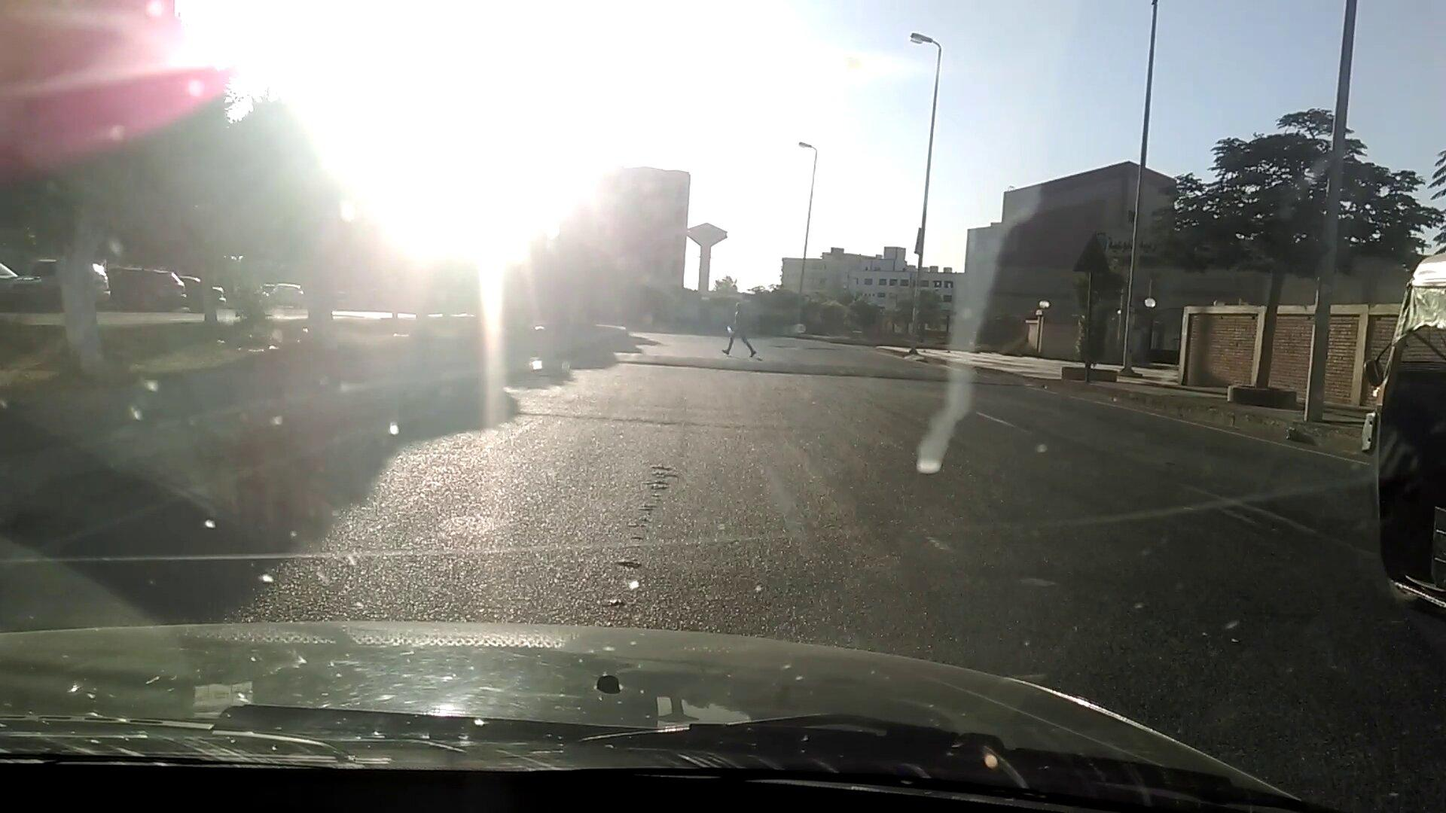Bump: (595, 339, 1009, 384)
